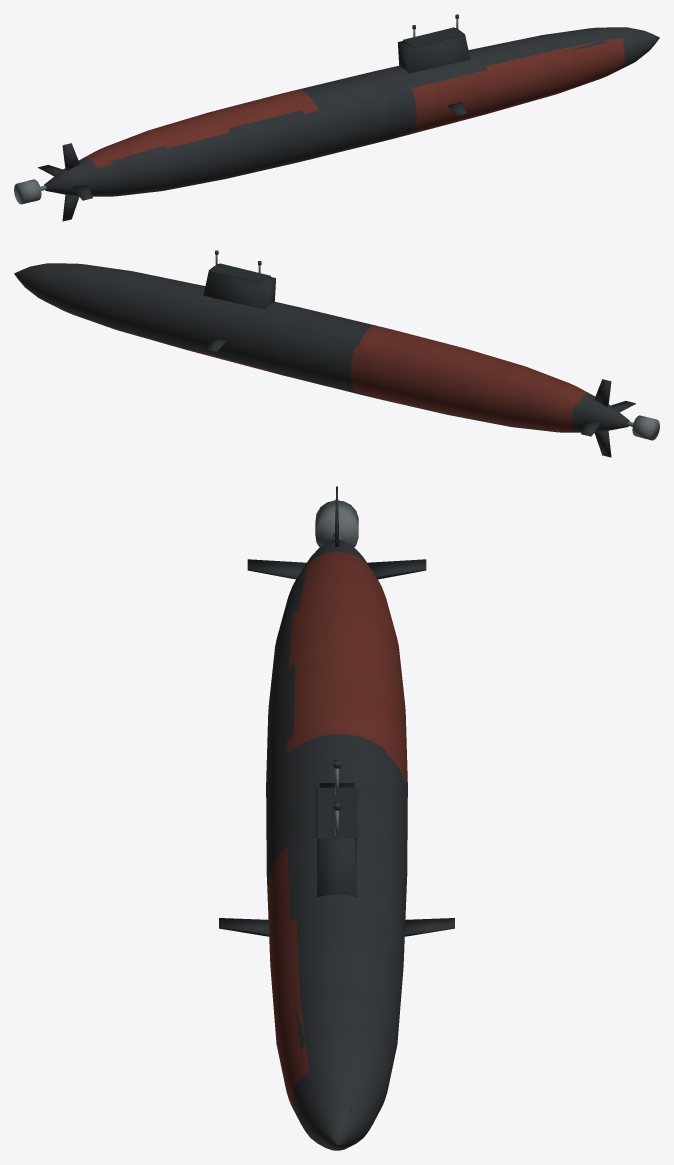
The model's file is CN_SSN_Type093B_LOD2.fbx.
The picture shows the model from 3 angles, top to bottom: view 1: azimuth 30°, elevation 25°; view 2: azimuth 150°, elevation 25°; view 3: azimuth 270°, elevation 25°; orthographic projection. The views are drawn at different scales.
Parts seen in each view (by area): view 1: CN_SSN_Type093B_LOD2; view 2: CN_SSN_Type093B_LOD2; view 3: CN_SSN_Type093B_LOD2.
Part boxes in pixels (x1=…): CN_SSN_Type093B_LOD2: x1=14, y1=14, x2=659, y2=221; CN_SSN_Type093B_LOD2: x1=14, y1=250, x2=659, y2=457; CN_SSN_Type093B_LOD2: x1=219, y1=486, x2=454, y2=1150.
Bounding box in the file's own units: 115 × 18.32 × 18.81.
Materials: 6 (1 with a texture image).
